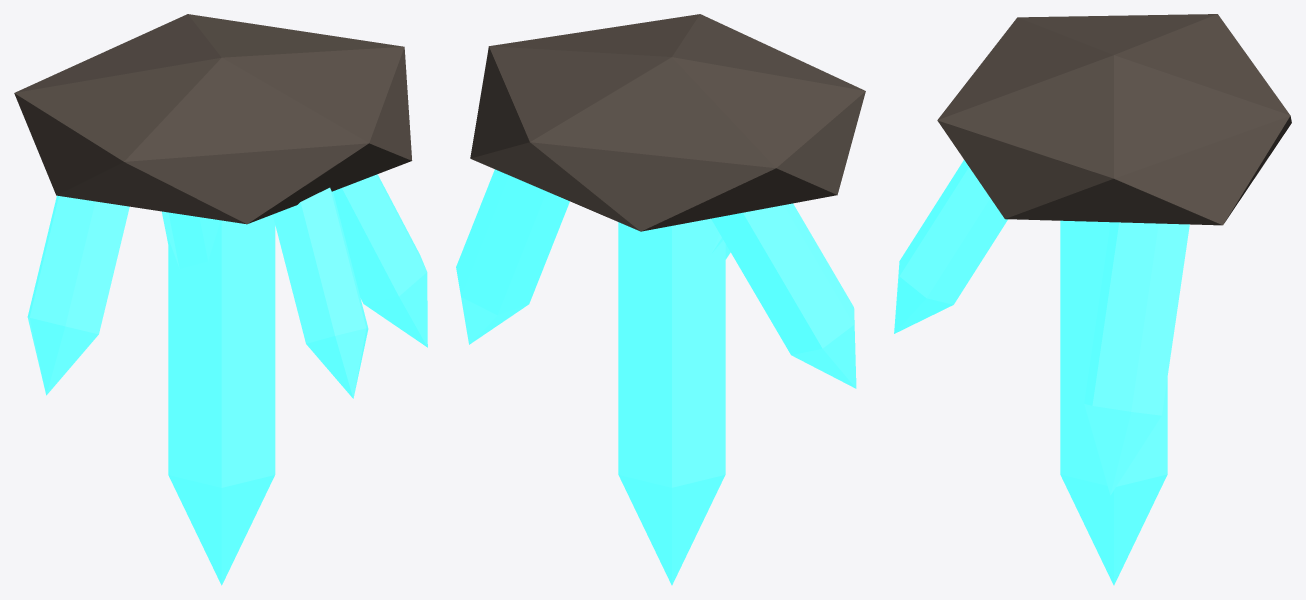
Rendered from mine_crystal_hanging.fbx.
3 views of the same model, side by side, from view 1: azimuth 30°, elevation 25°; view 2: azimuth 150°, elevation 25°; view 3: azimuth 270°, elevation 25° (orthographic).
Visible parts, largest first — view 1: mine_crystal_hanging; view 2: mine_crystal_hanging; view 3: mine_crystal_hanging.
Boxes of the visible parts, left/top/right/bottom form: mine_crystal_hanging: left=14, top=14, right=427, bottom=585; mine_crystal_hanging: left=456, top=14, right=865, bottom=585; mine_crystal_hanging: left=894, top=14, right=1291, bottom=585.
Size of the model in its own units: 0.8836 by 1.13 by 0.769.
